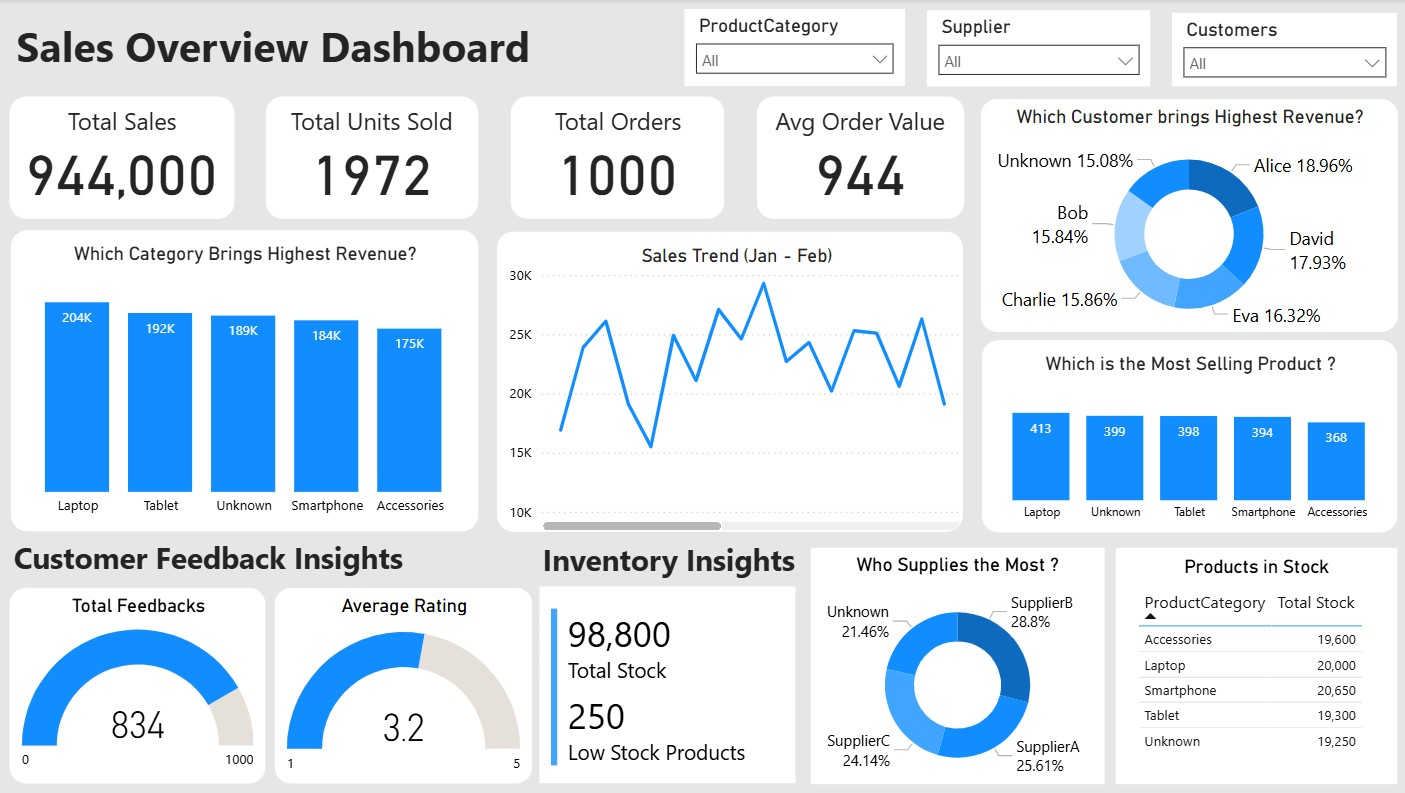

The dashboard page shown, as its layout file describes it:
{"tool":"powerbi","page":{"name":"Dashboard","canvas":[1280,720],"ordinal":0},"visuals":[{"type":"card","fields":{"Values":["Measures Table.Total Sales"]},"box":[11,88.1,202.9,110],"z":0},{"type":"card","fields":{"Values":["Measures Table.Total Quantity"]},"box":[242.4,88.1,191.8,110],"z":1000},{"type":"card","fields":{"Values":["Measures Table.Total Orders"]},"box":[464.2,88.1,192.7,110],"z":2000},{"type":"card","fields":{"Values":["Measures Table.Average Order Value"]},"box":[686,88.1,187.3,110],"z":3000},{"type":"gauge","title":"Total Feedbacks","fields":{"Y":["Measures Table.Total Feedbacks"]},"box":[11.7,531.4,231.4,177.1],"z":4000},{"type":"gauge","fields":{"Y":["Measures Table.Average Rating"]},"box":[250.3,531.4,232.9,177.1],"z":5000},{"type":"slicer","fields":{"Values":["Products.Product"]},"box":[621,8.9,199,70],"z":6000},{"type":"slicer","fields":{"Values":["Sales Data.CustomerName"]},"box":[1061.1,12.2,203.3,66.7],"z":7000},{"type":"slicer","fields":{"Values":["Inventory Data.Supplier"]},"box":[840.5,10.3,201.7,68.6],"z":8000},{"type":"textbox","box":[12.2,12.2,540,63.3],"z":9000},{"type":"textbox","box":[50.6,90,124.5,40],"z":10000},{"type":"textbox","box":[258.8,90,160,40],"z":11000},{"type":"textbox","box":[492.3,90,137.3,40],"z":12000},{"type":"textbox","box":[696,90,168.2,40],"z":13000},{"type":"textbox","box":[10,481.1,392.2,45.6],"z":14000},{"type":"columnChart","title":"Which Category Brings Highest Revenue?","fields":{"Category":["Products.Product"],"Y":["Measures Table.Total Sales"]},"box":[12.4,208.9,422.3,272.1],"z":15000},{"type":"lineChart","title":"Sales Trend (Jan - Feb)","fields":{"Y":["Measures Table.Total Sales"],"Category":["Sales Data.OrderDate.Variation.Date Hierarchy.Month","Sales Data.OrderDate.Variation.Date Hierarchy.Day"]},"box":[451.7,210,421.2,271],"z":16000},{"type":"columnChart","title":"Which is the Most Selling Category ?","fields":{"Category":["Sales Data.Product"],"Y":["Measures Table.Total Quantity"]},"box":[890,307.8,375.6,173.3],"z":17000},{"type":"donutChart","title":"Which Customer brings Highest Revenue?","fields":{"Category":["Sales Data.CustomerName"],"Y":["Measures Table.Total Sales"]},"box":[888.9,90,376.7,210],"z":18000},{"type":"textbox","box":[487.8,483.3,246.7,47.8],"z":19000},{"type":"multiRowCard","fields":{"Values":["Measures Table.Total Stock","Measures Table.Low Stock Products"]},"box":[490,531.1,231.1,177.8],"z":20000},{"type":"pieChart","title":"Who Supplies the Most ?","fields":{"Category":["Inventory Data.Supplier"],"Y":["Measures Table.Total Stock"]},"box":[735.6,495.6,265.6,213.3],"z":21000},{"type":"tableEx","title":"Products in Stock","fields":{"Values":["Products.ProductCategory","Measures Table.Total Stock"]},"box":[1011.1,495.6,254.4,213.3],"z":22000}]}

Visuals, with their boxes in screenshot pixels (x1, y1, x2, y2), scaled from the page's 1280x720 canvas onto the 1405x793 screenshot:
card - Measures Table.Total Sales: detection(12, 97, 235, 218)
card - Measures Table.Total Quantity: detection(266, 97, 477, 218)
card - Measures Table.Total Orders: detection(510, 97, 721, 218)
card - Measures Table.Average Order Value: detection(753, 97, 959, 218)
"Total Feedbacks" gauge: detection(13, 585, 267, 780)
gauge - Measures Table.Average Rating: detection(275, 585, 530, 780)
slicer - Products.Product: detection(682, 10, 900, 87)
slicer - Sales Data.CustomerName: detection(1165, 13, 1388, 87)
slicer - Inventory Data.Supplier: detection(923, 11, 1144, 87)
textbox: detection(13, 13, 606, 83)
textbox: detection(56, 99, 192, 143)
textbox: detection(284, 99, 460, 143)
textbox: detection(540, 99, 691, 143)
textbox: detection(764, 99, 949, 143)
textbox: detection(11, 530, 441, 580)
"Which Category Brings Highest Revenue?" columnChart: detection(14, 230, 477, 530)
"Sales Trend (Jan - Feb)" lineChart: detection(496, 231, 958, 530)
"Which is the Most Selling Category ?" columnChart: detection(977, 339, 1389, 530)
"Which Customer brings Highest Revenue?" donutChart: detection(976, 99, 1389, 330)
textbox: detection(535, 532, 806, 585)
multiRowCard - Measures Table.Total Stock x Measures Table.Low Stock Products: detection(538, 585, 792, 781)
"Who Supplies the Most ?" pieChart: detection(807, 546, 1099, 781)
"Products in Stock" tableEx: detection(1110, 546, 1389, 781)
